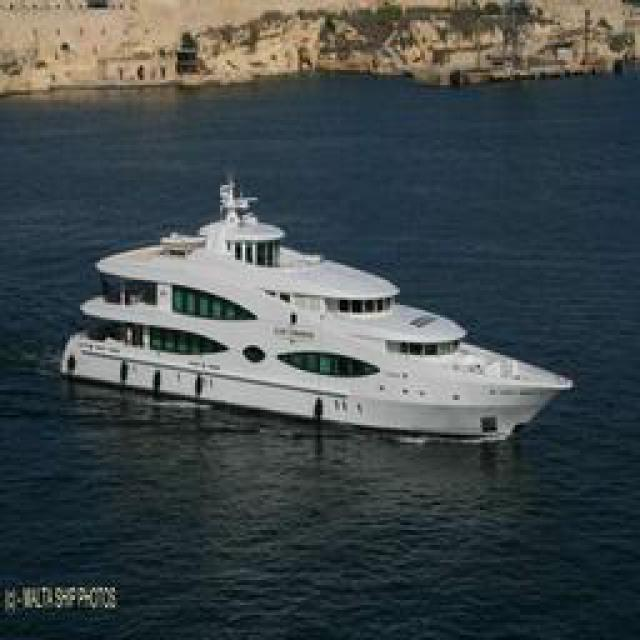Ship: (69, 170, 579, 440)
